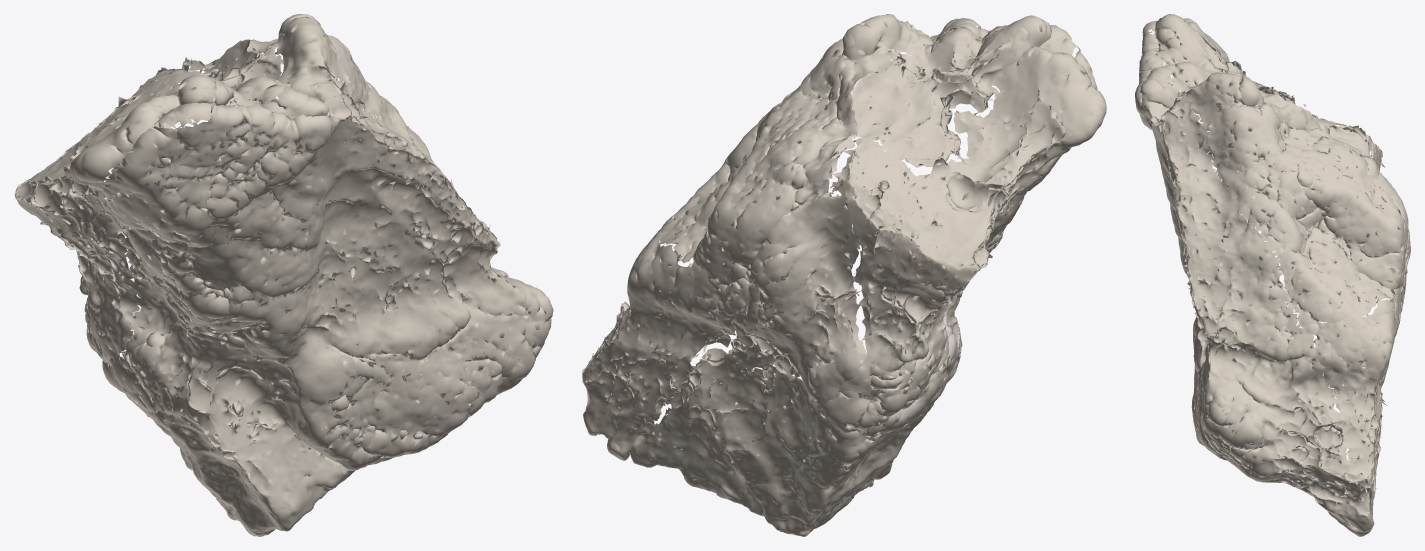
File: rock_17_cand05.glb
3 views of the same model, side by side, from view 1: azimuth 30°, elevation 25°; view 2: azimuth 150°, elevation 25°; view 3: azimuth 270°, elevation 25° (orthographic). The views are drawn at different scales.
Parts seen in each view (by area): view 1: world; view 2: world; view 3: world.
Part boxes in pixels (x1,y1,x2,y2): world: (14,14,553,536); world: (582,14,1106,536); world: (1135,14,1410,536).
Bounding box in the file's own units: 1.55 × 1.66 × 0.9713.
